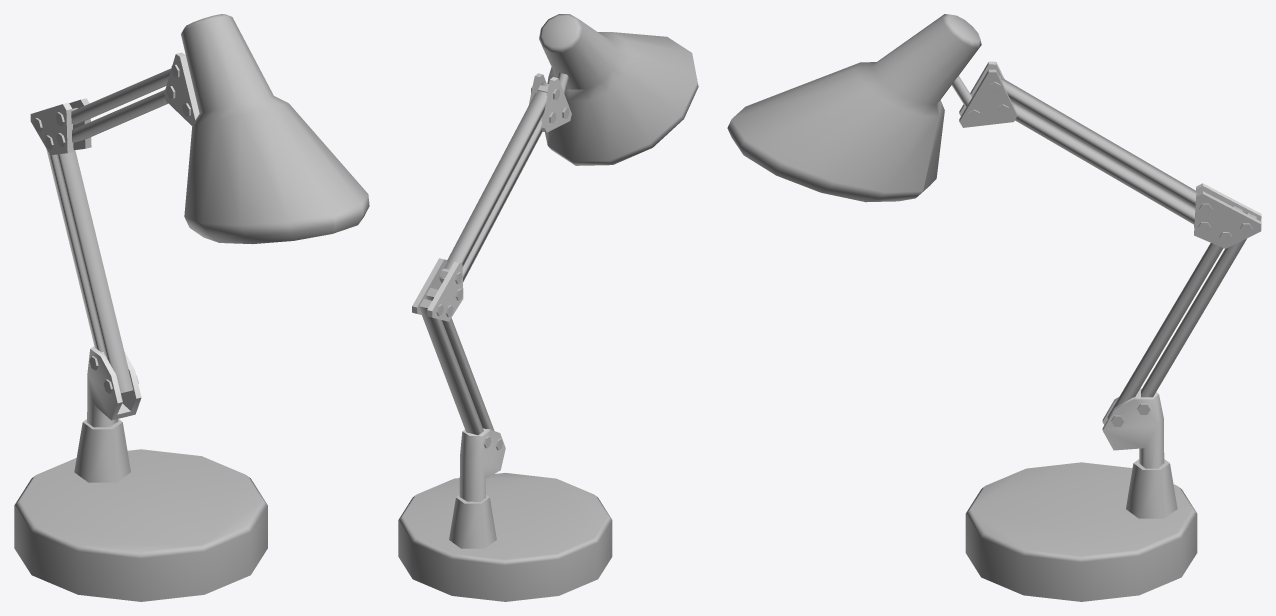
Rendered from electronics_024.fbx.
3 views of the same model, side by side, from view 1: azimuth 30°, elevation 25°; view 2: azimuth 150°, elevation 25°; view 3: azimuth 270°, elevation 25° (orthographic). The views are drawn at different scales.
Parts seen in each view (by area): view 1: electronics_024; view 2: electronics_024; view 3: electronics_024.
Boxes of the visible parts, x1,y1,x2,y2 form: electronics_024: (14,14,369,601); electronics_024: (398,14,698,601); electronics_024: (727,14,1261,601).
Size of the model in its own units: 28.68 by 66.17 by 73.21.
